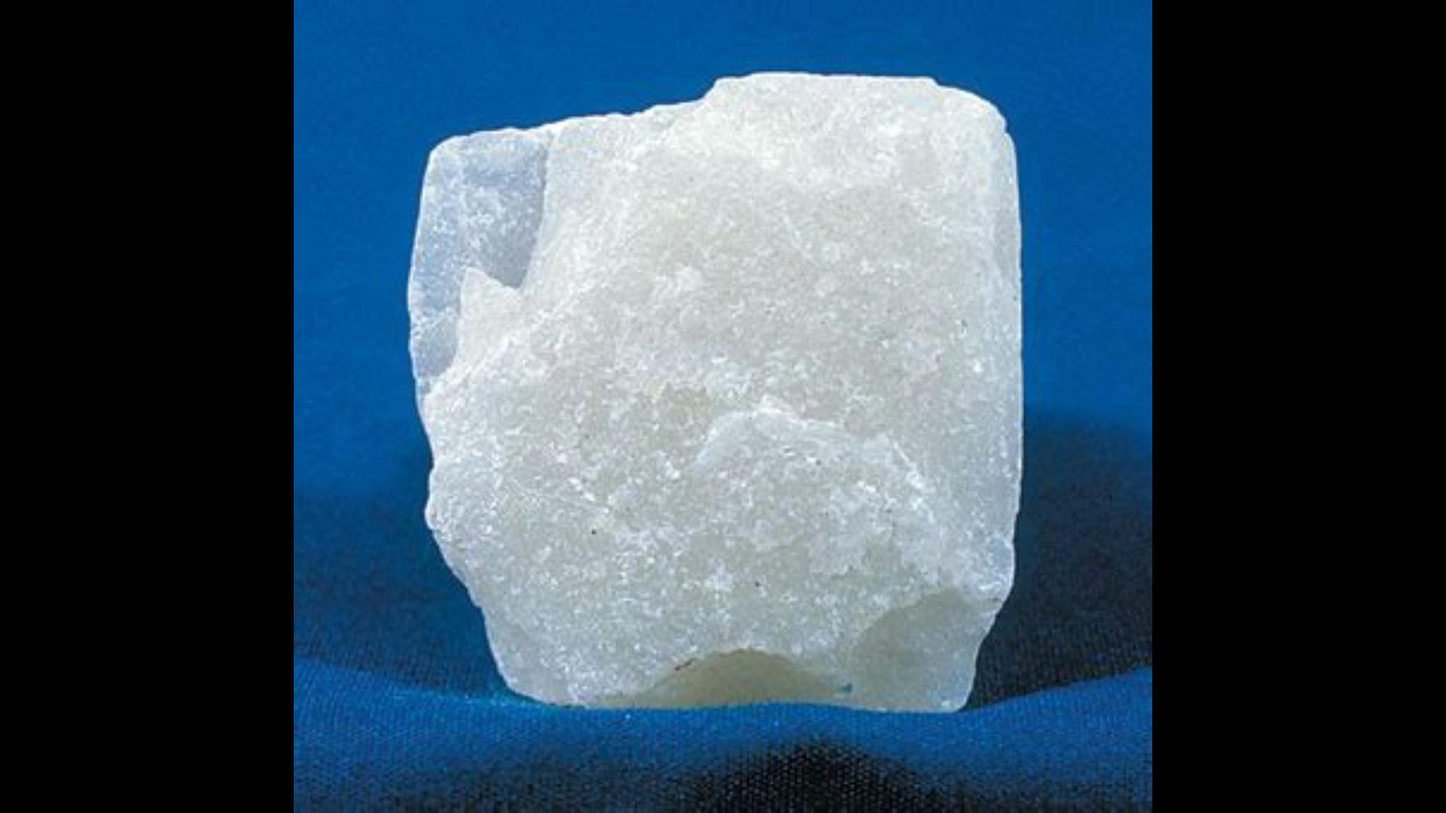rock: (411, 74, 1016, 703)
